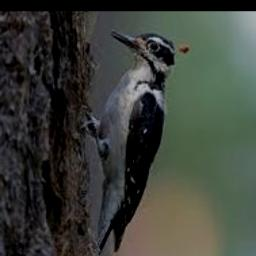Woodpecker: (81, 30, 190, 256)
